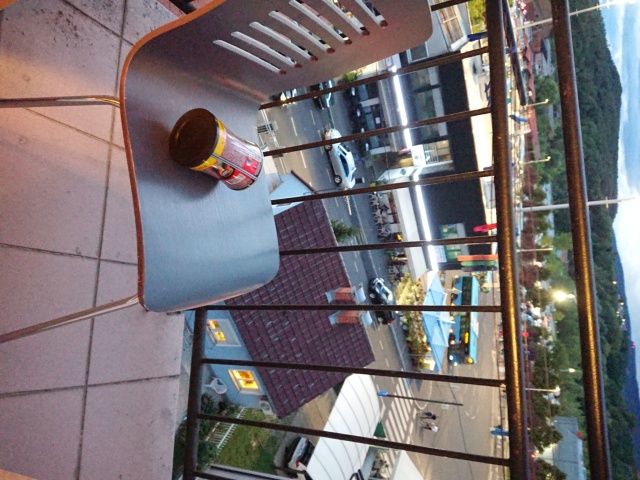Nescafe Classic 225g: (166, 106, 266, 194)
